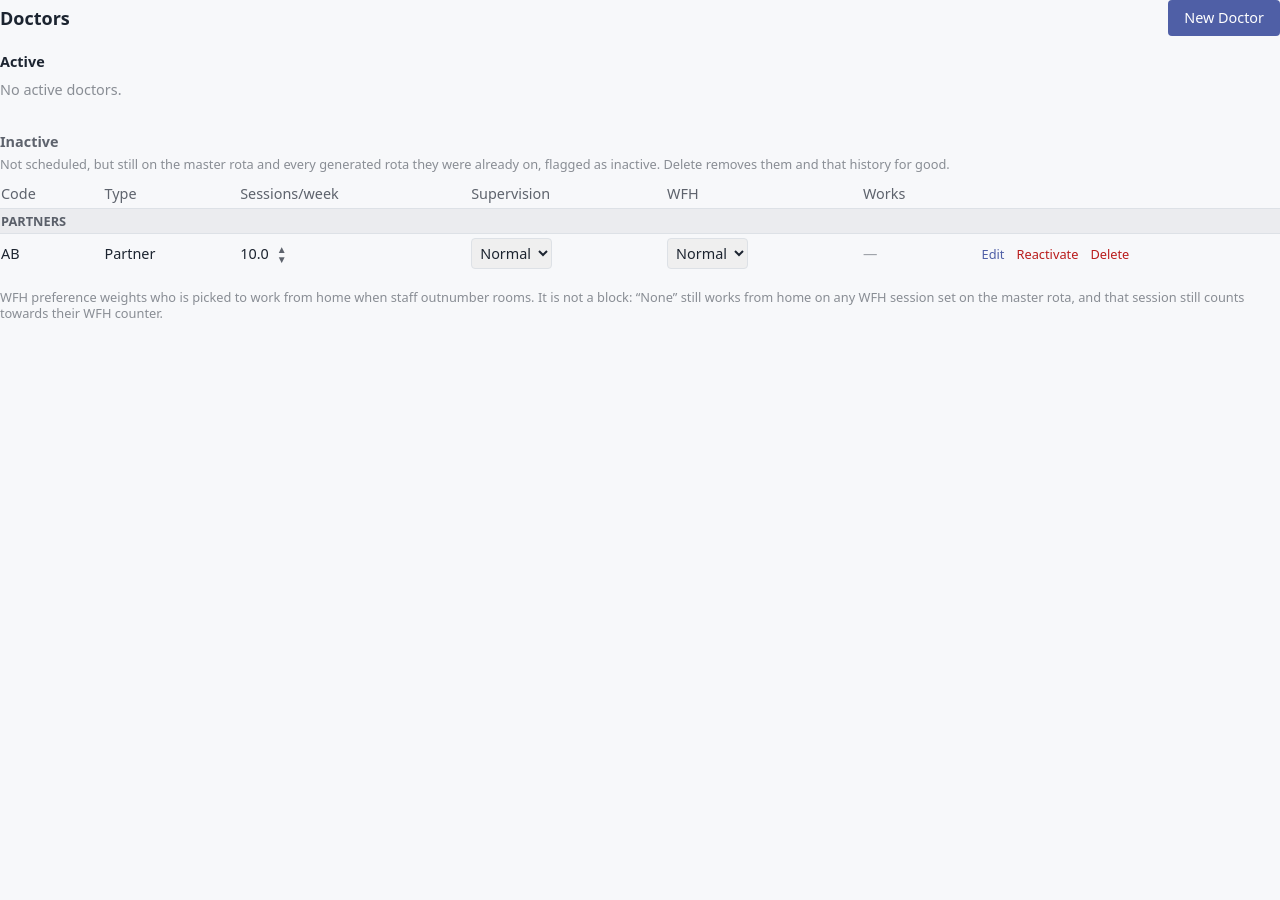
DoctorsPage › permanent delete › surfaces a delete failure in the dialog
expect the text "AB" is shown: met, box [0,234,104,273]
Click the button "Delete".
click(1110, 254)  # box [1090,246,1129,262]
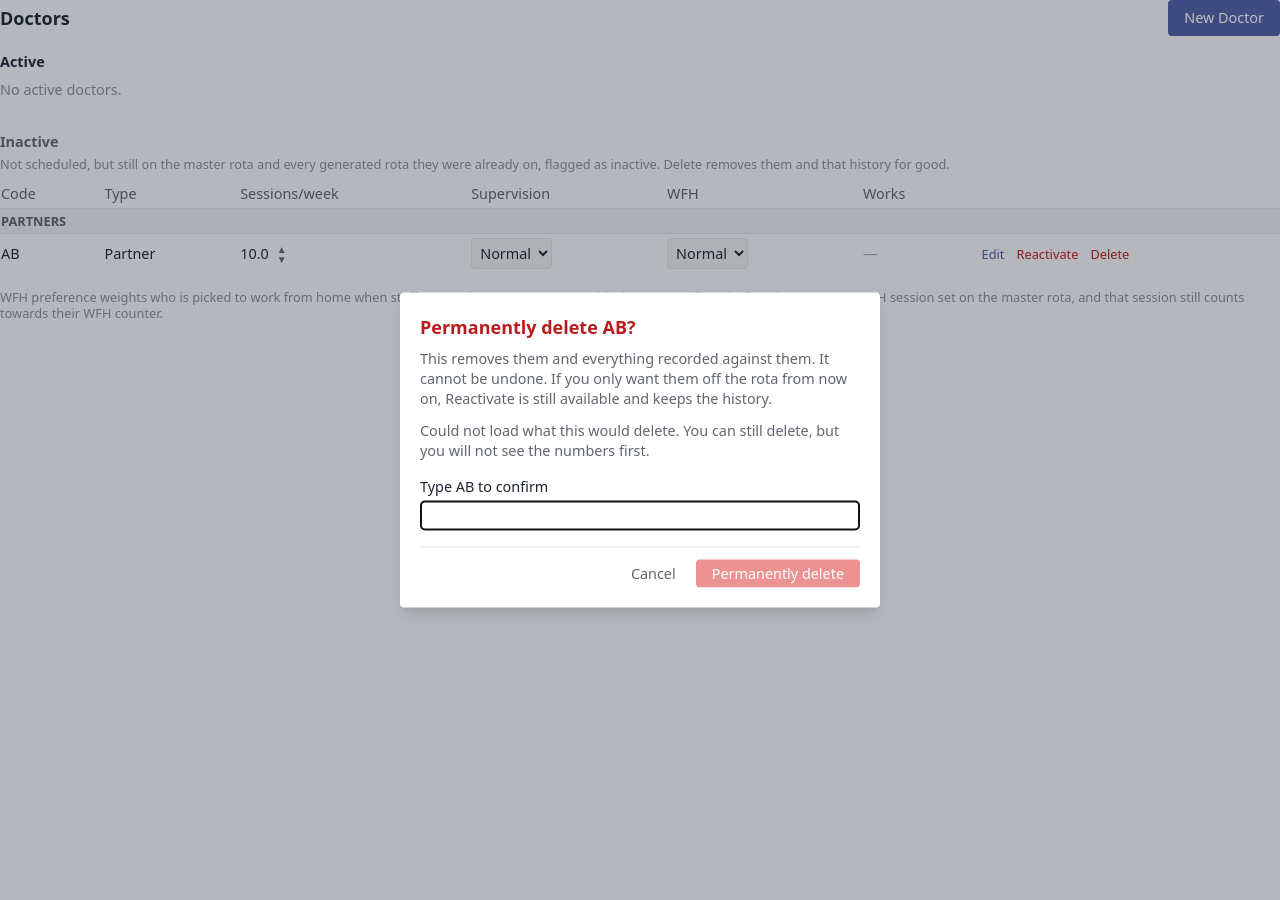
expect the text "Could not load what this would delete" is shown: met, box [420,420,839,460]
Type "AB" into the field labelled "Type AB to confirm".
click(640, 516); type("AB")  # box [420,500,860,530]
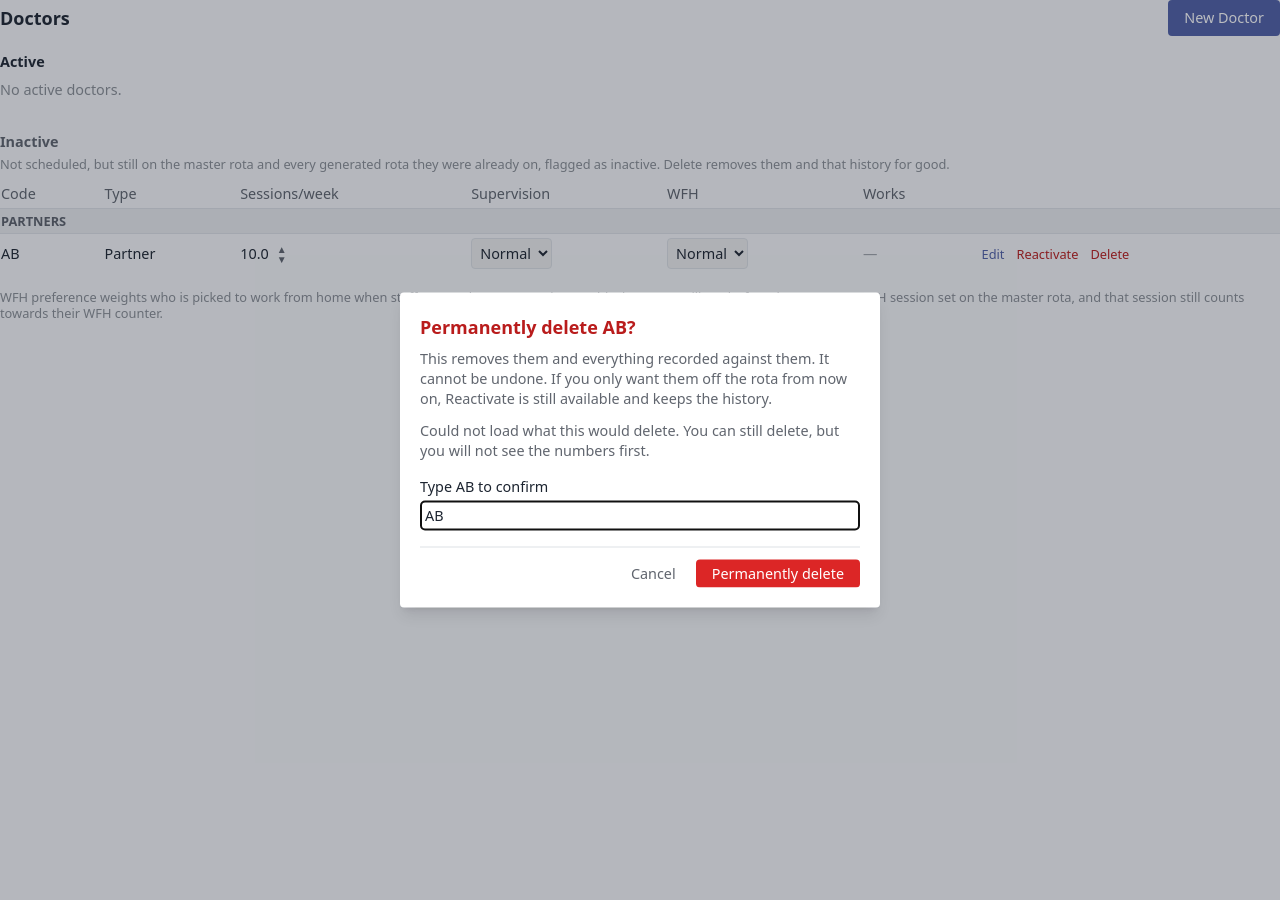
Click the button "Permanently delete".
click(778, 574)  # box [696,560,860,588]
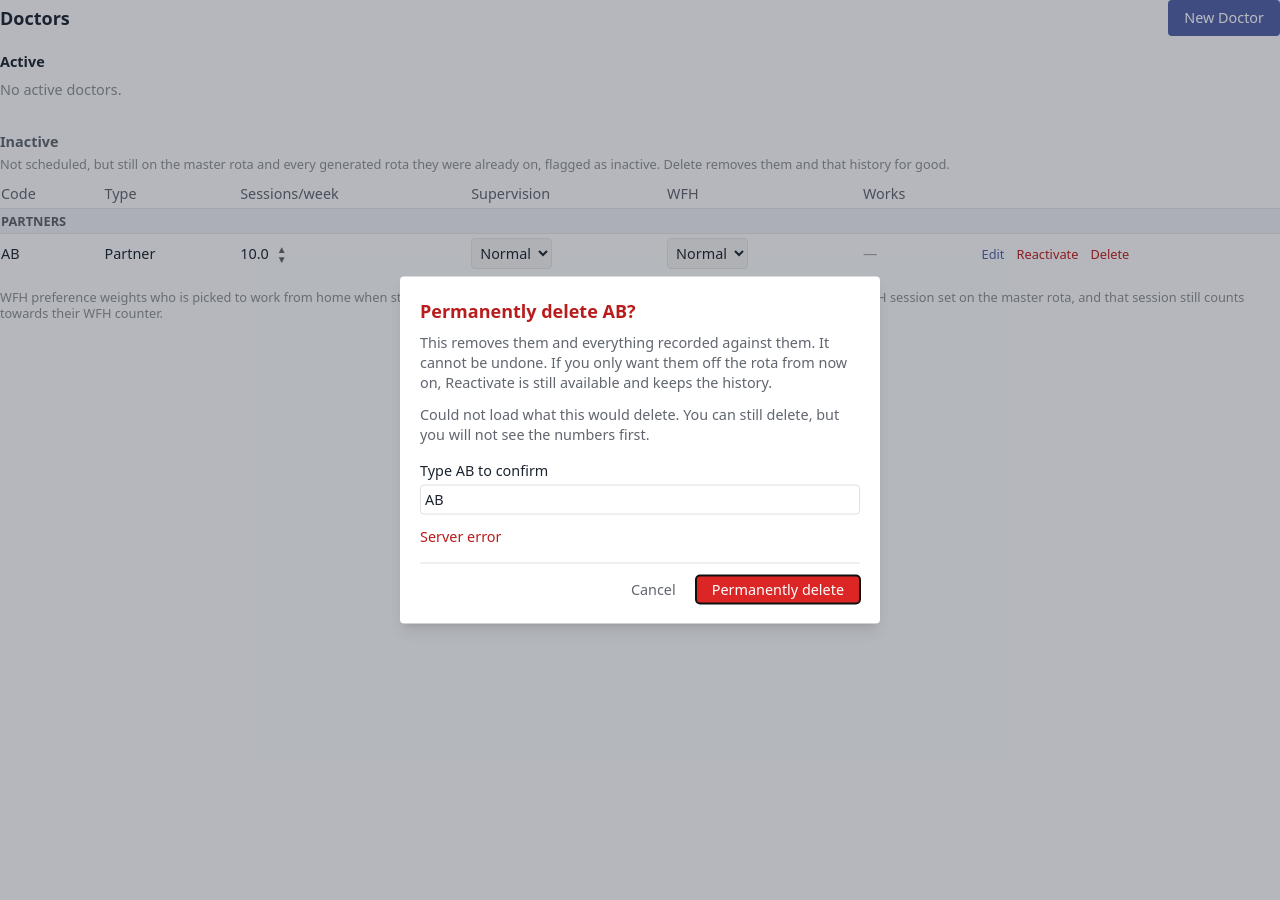
expect the text "Server error" is shown: met, box [420,526,501,546]
